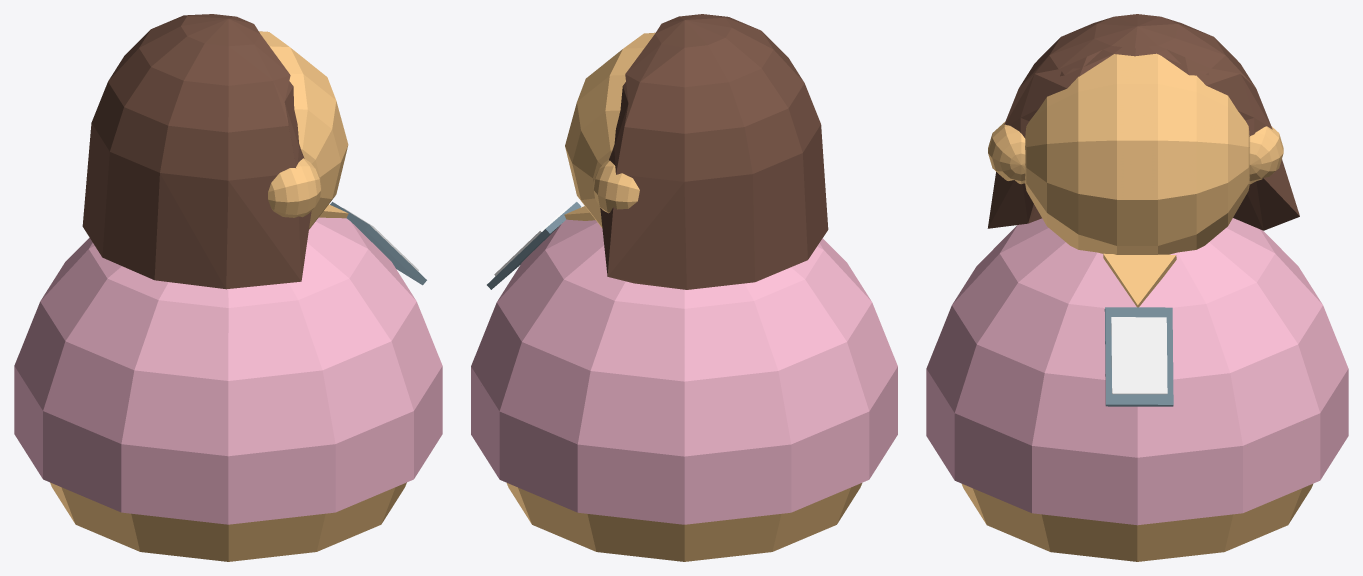
The model's file is part3_student2.glb.
3 views of the same model, side by side, from view 1: azimuth 30°, elevation 25°; view 2: azimuth 150°, elevation 25°; view 3: azimuth 270°, elevation 25° (orthographic).
Parts seen in each view (by area): view 1: group993846406, group1247805973, group844514553, group1824465911, group2069521684, group18449815; view 2: group993846406, group1247805973, group844514553, group1824465911, group956058354, group18449815; view 3: group993846406, group1824465911, group1247805973, group844514553, group1808806056, group18449815, group1010533560, group2069521684, group956058354, group970962896.
Boxes of the visible parts, <box> form: group993846406: <box>14,217,442,524</box>; group1247805973: <box>82,14,311,289</box>; group844514553: <box>50,482,406,561</box>; group1824465911: <box>259,31,348,229</box>; group2069521684: <box>268,158,321,217</box>; group18449815: <box>330,202,426,285</box>; group993846406: <box>471,219,897,524</box>; group1247805973: <box>600,14,828,289</box>; group844514553: <box>506,483,862,561</box>; group1824465911: <box>565,32,655,227</box>; group956058354: <box>593,160,639,213</box>; group18449815: <box>487,202,581,289</box>; group993846406: <box>926,218,1348,525</box>; group1824465911: <box>1025,53,1249,254</box>; group1247805973: <box>987,14,1299,230</box>; group844514553: <box>962,484,1312,561</box>; group1808806056: <box>1111,317,1167,394</box>; group18449815: <box>1104,307,1173,406</box>; group1010533560: <box>1103,253,1176,307</box>; group2069521684: <box>988,122,1025,184</box>; group956058354: <box>1249,126,1283,184</box>; group970962896: <box>1060,45,1208,76</box>.
Bounding box in the file's own units: 0.25 × 0.302 × 0.25.
